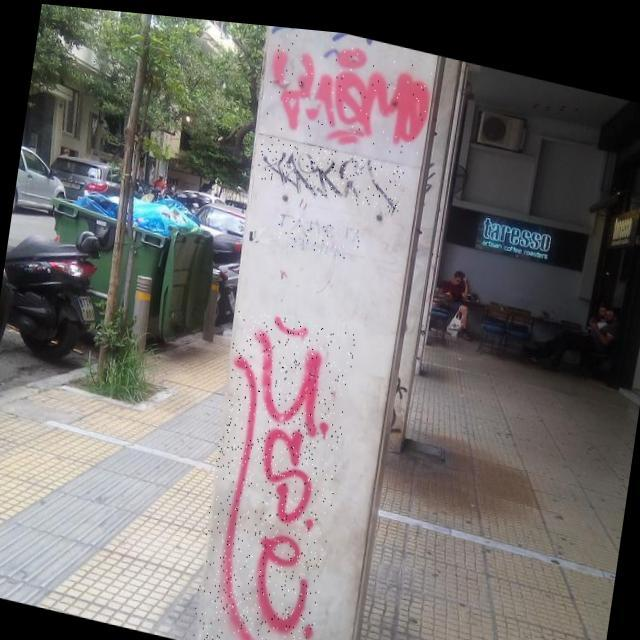-: (190, 298, 356, 640), (263, 24, 434, 156), (256, 128, 404, 206), (276, 205, 364, 257)
